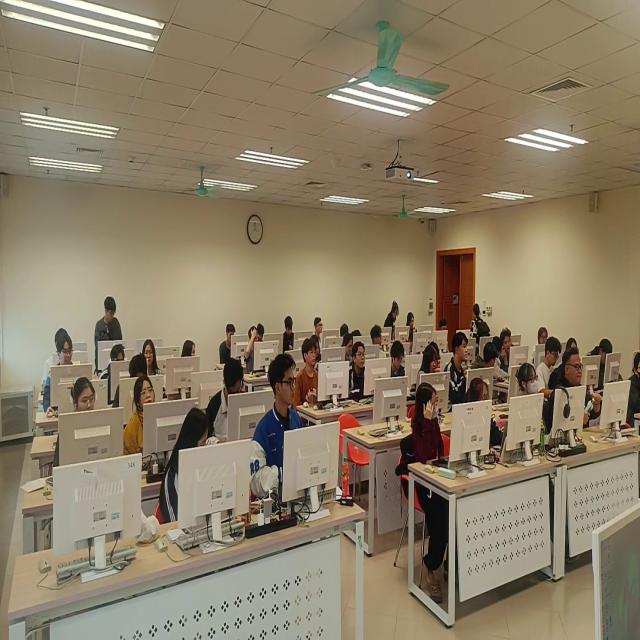raise_hand: (414, 382, 445, 465), (246, 327, 259, 374)
raise_head: (251, 354, 306, 503), (55, 378, 97, 467), (465, 378, 504, 448), (125, 376, 156, 455), (444, 333, 471, 404), (295, 339, 319, 408), (349, 343, 368, 401), (626, 352, 640, 424), (516, 363, 539, 397), (143, 340, 164, 376), (532, 328, 549, 364), (315, 318, 324, 351), (566, 337, 579, 352)
stand: (95, 296, 124, 375), (471, 304, 490, 352), (385, 300, 400, 343)
using_computer: (547, 349, 603, 433), (207, 358, 246, 440), (44, 334, 75, 419), (113, 354, 148, 408), (537, 338, 563, 392), (587, 339, 614, 387), (100, 344, 126, 381), (418, 346, 439, 387), (220, 325, 237, 366), (391, 341, 407, 379), (439, 320, 453, 354), (284, 316, 295, 352), (407, 313, 418, 345), (310, 335, 323, 362), (342, 334, 354, 362), (258, 324, 266, 342)
